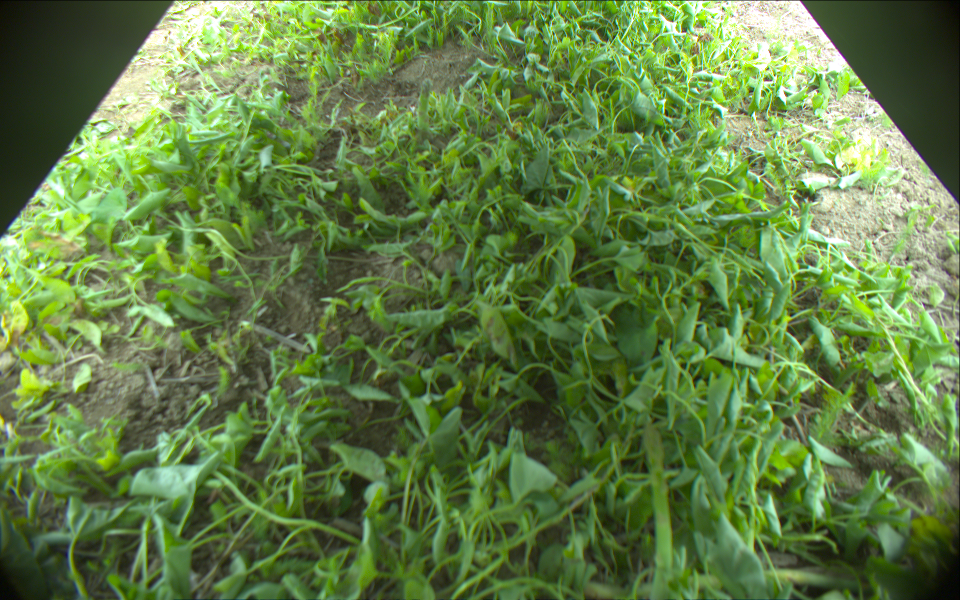aspa: (642, 421, 671, 600), (418, 79, 432, 138)
